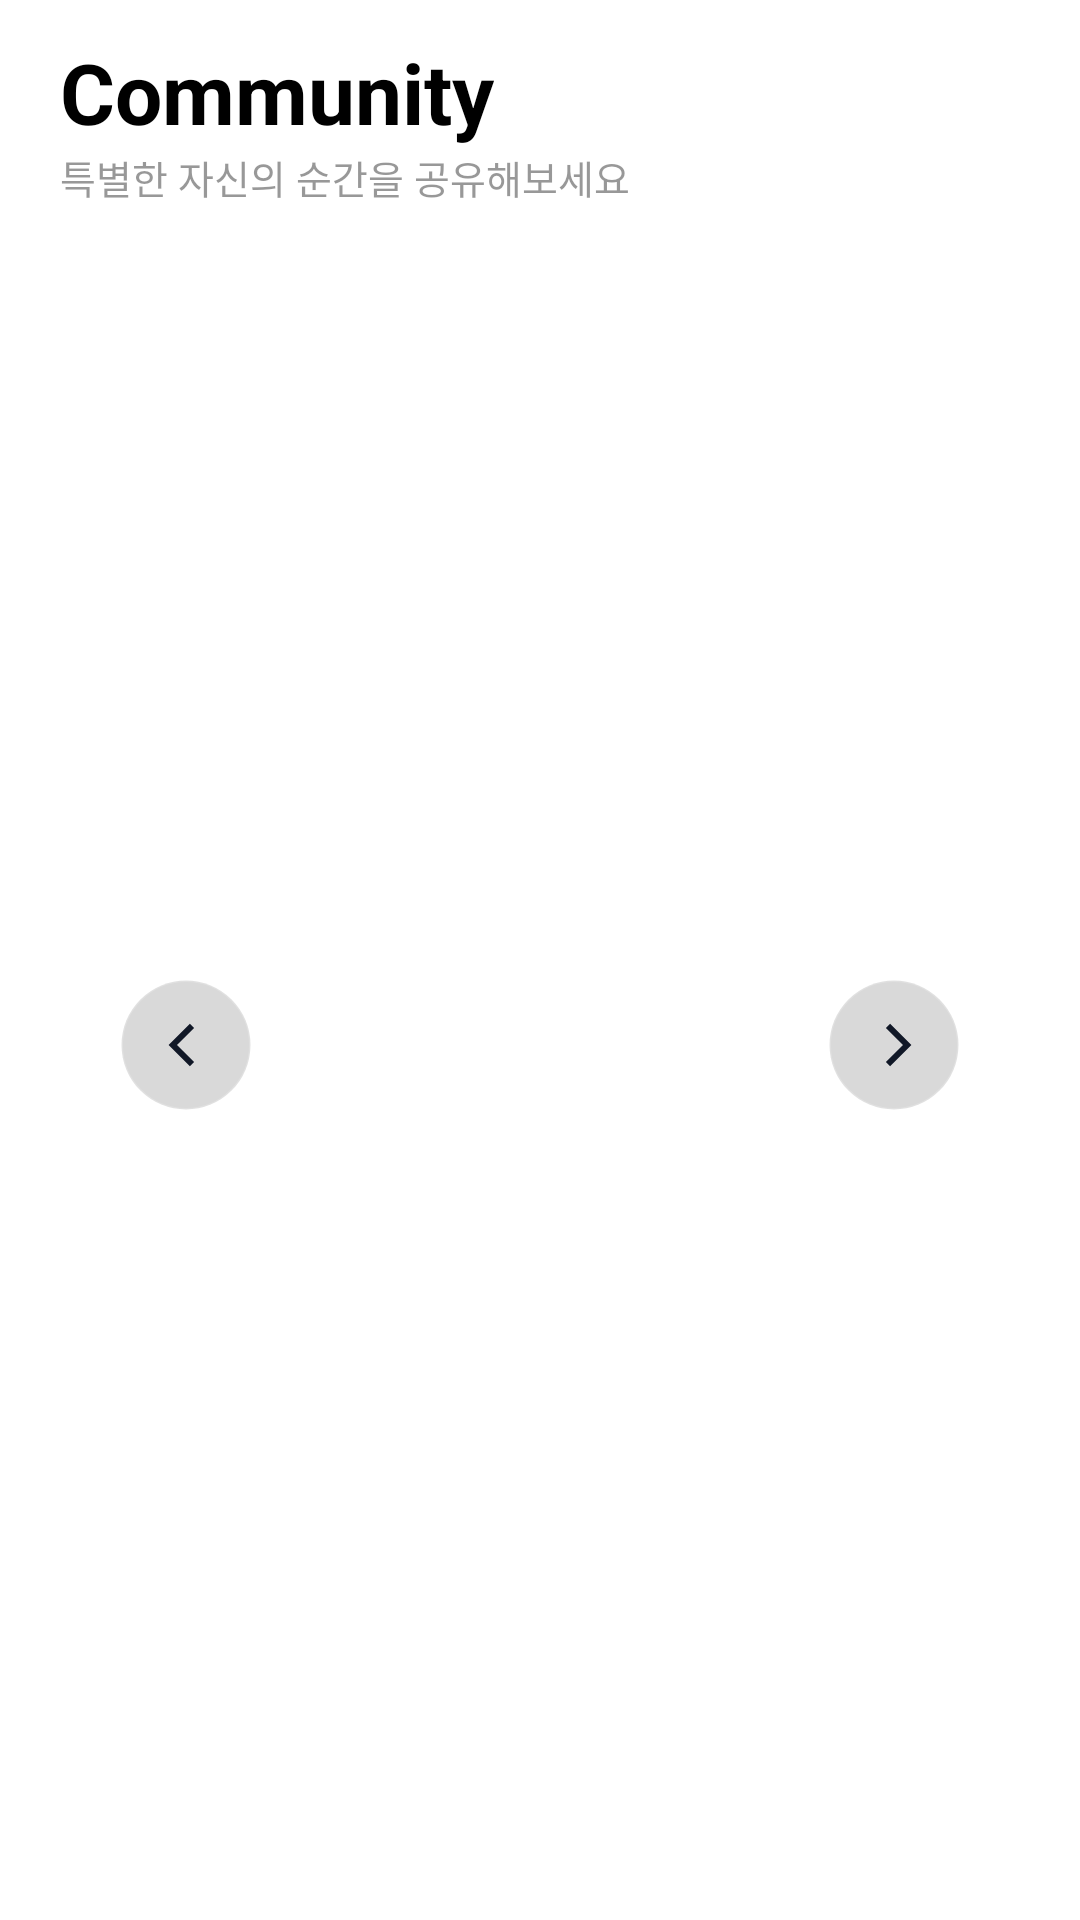

Screen size 1080w x 1920h. Icon name, then its center in pixels as (x=x, y=y):
next: (x=894, y=1045)
prev: (x=186, y=1045)
